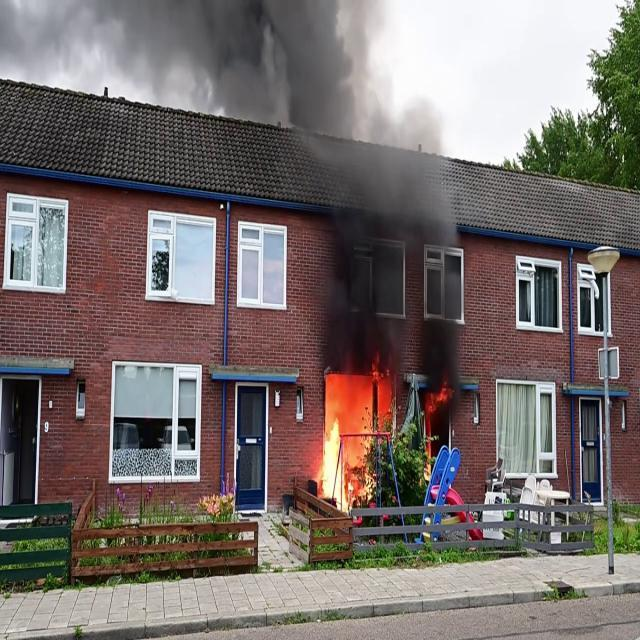Fire: (314, 366, 392, 509), (421, 380, 451, 488)
Smoke: (280, 0, 466, 376), (0, 0, 272, 114)
